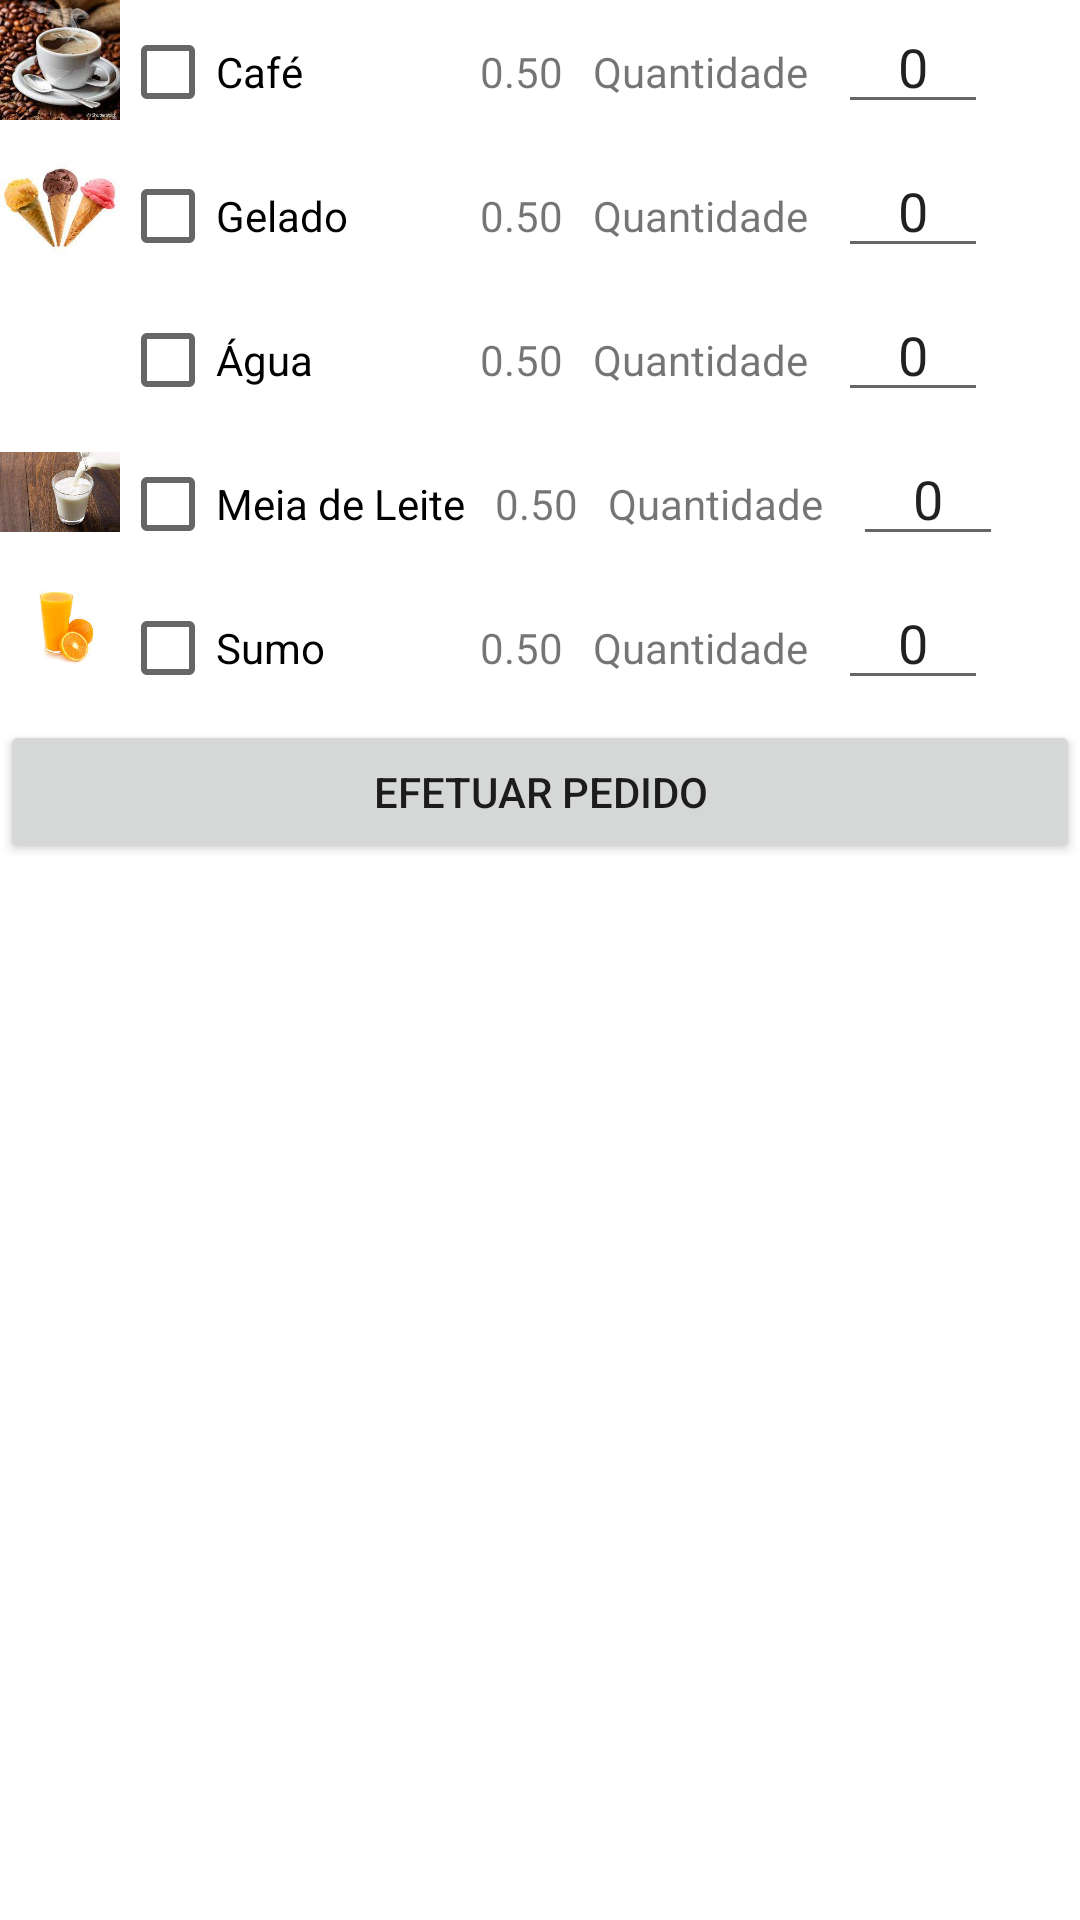

Named icons in this screenshot (1080x1920) and their bounding boxes, (x1,y1,x2,y2):
cafe: (0,0,120,120)
